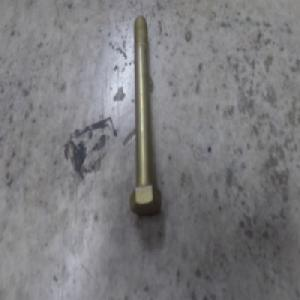Bolt: (128, 15, 162, 216)
